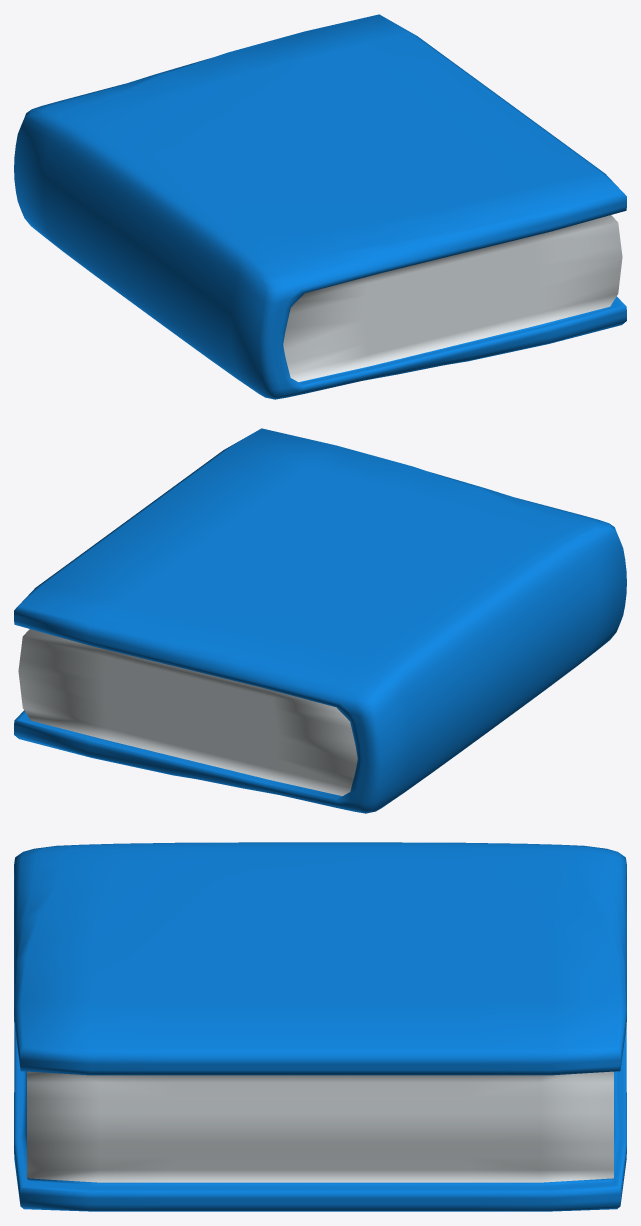
File: Book.fbx
3 views of the same model, one above another, from view 1: azimuth 30°, elevation 25°; view 2: azimuth 150°, elevation 25°; view 3: azimuth 270°, elevation 25° (orthographic). The views are drawn at different scales.
Parts seen in each view (by area): view 1: Cube; view 2: Cube; view 3: Cube.
Boxes of the visible parts, x1,y1,x2,y2 form: Cube: [14, 14, 626, 399]; Cube: [14, 428, 626, 813]; Cube: [14, 842, 626, 1211].
Bounding box in the file's own units: 100 × 34.34 × 116.
